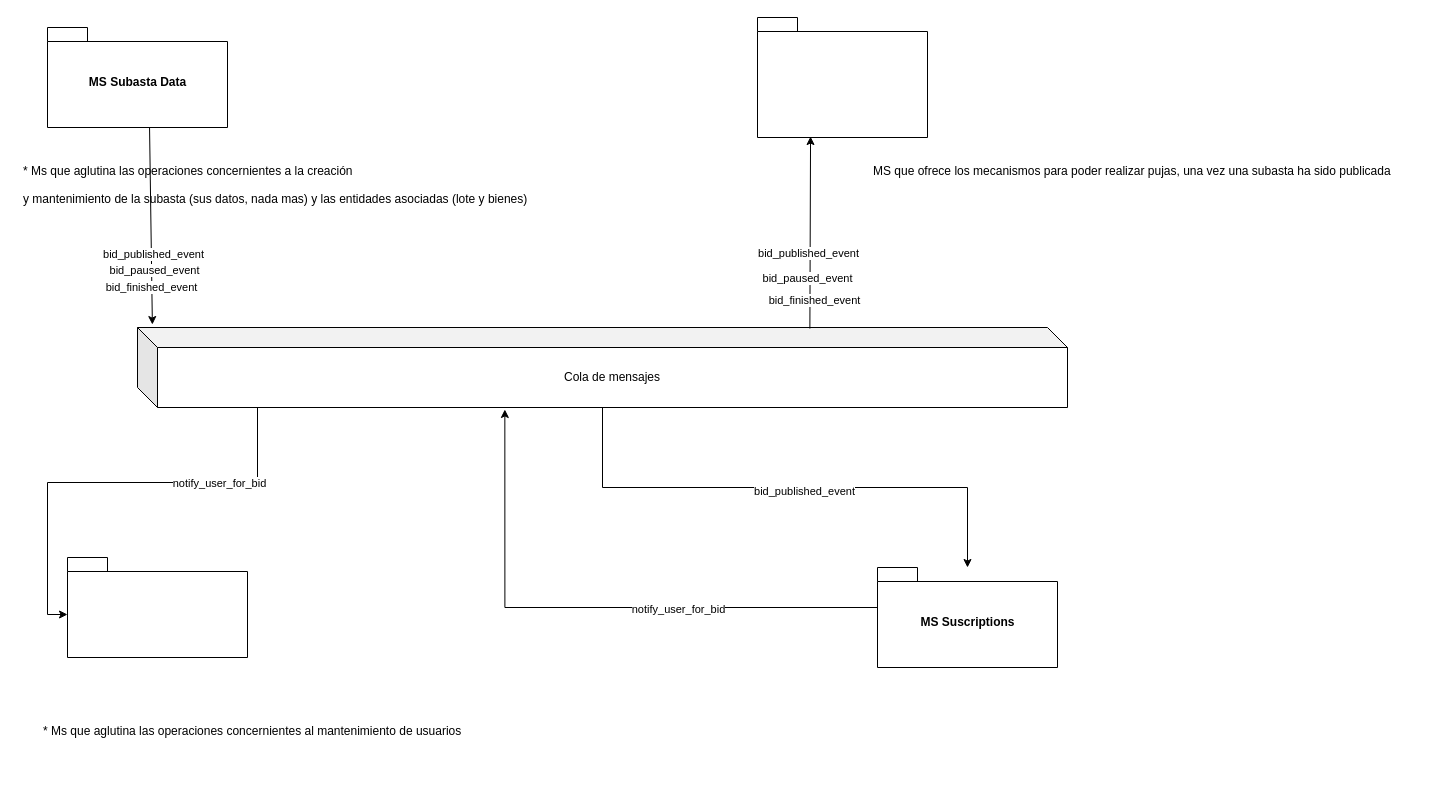
This 1434x808 diagram has some shape labels left out. Here are the shapes that lost their labels. From the top down, the box of each, then its label:
(756, 16, 928, 138): MS Subasta Transactional
(66, 556, 248, 658): MS Users
